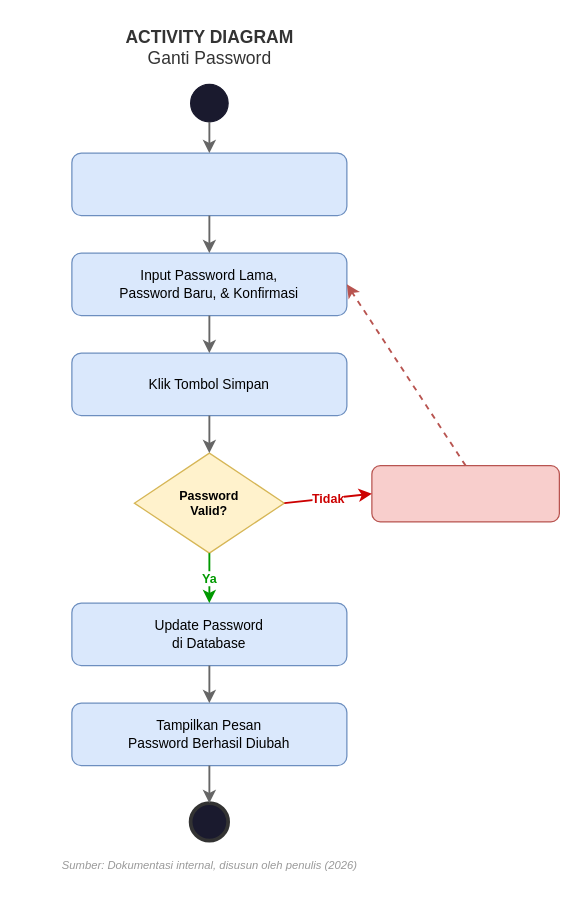
Image size: 581x899. Some labels were removed from this diagram. The shapes that lost their labels are listed below. From the top down, each one's centre as x and y in pixels, then its label:
At [209,184]: "Buka Menu Ganti Password".
At [465,493]: "Tampilkan Pesan Error".
